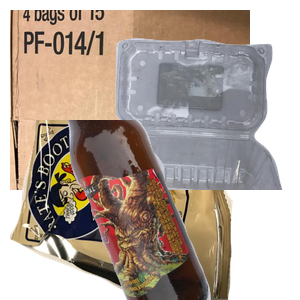cardboard: (10, 10, 250, 190)
glass: (65, 120, 300, 300)
plastic: (80, 36, 300, 216)
trash: (10, 120, 235, 300)
